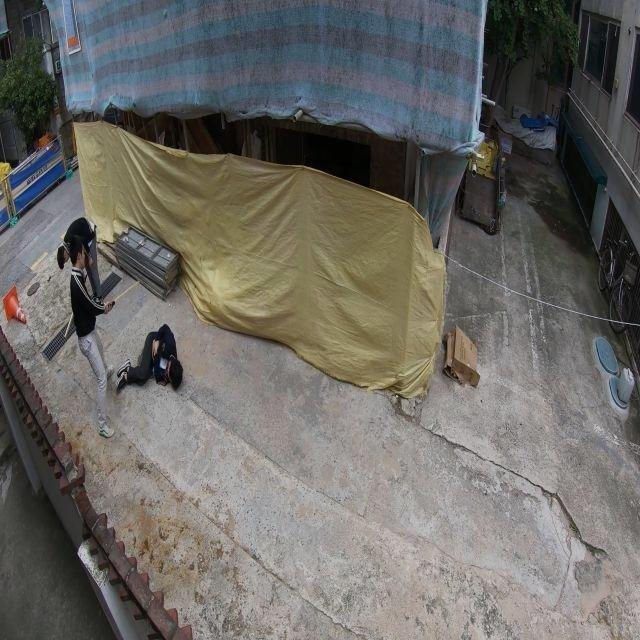fight: (59, 213, 183, 442)
